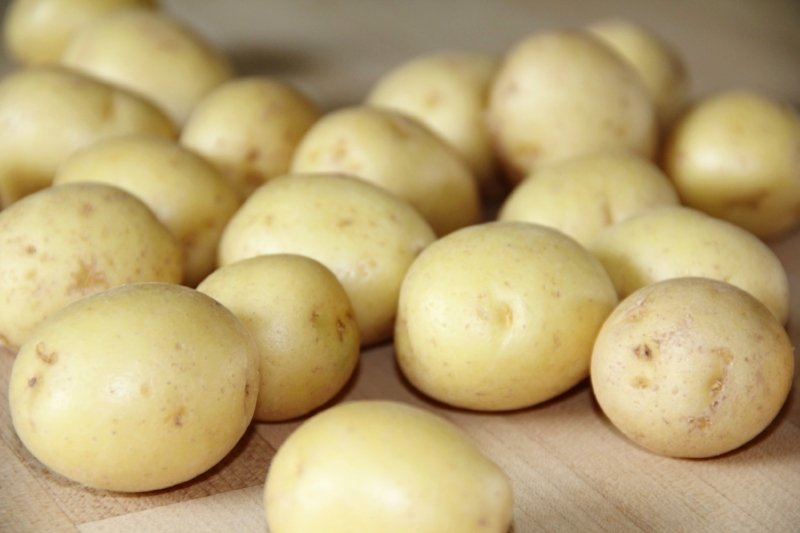boiled potatoes: (4, 285, 250, 480), (407, 227, 599, 408), (600, 284, 788, 449), (233, 177, 417, 333), (277, 408, 504, 533), (1, 192, 168, 334), (205, 261, 354, 416), (604, 197, 794, 296), (66, 137, 227, 238), (493, 156, 672, 245)
